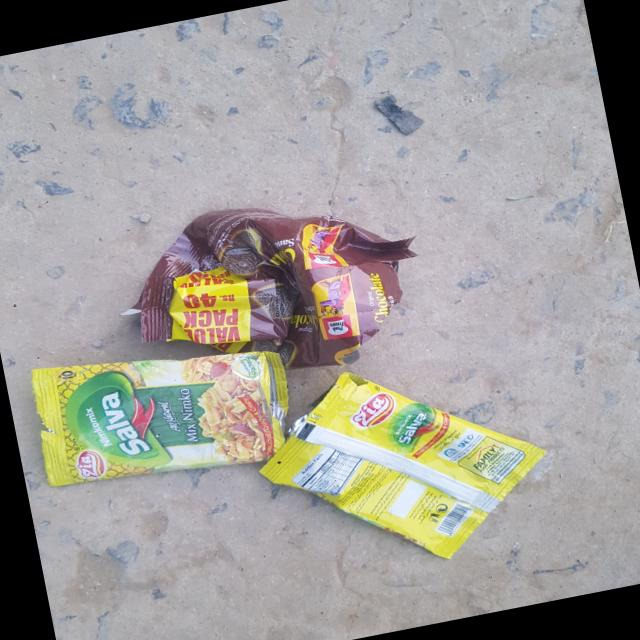electronic: (242, 336, 564, 593), (120, 172, 434, 368), (24, 321, 302, 504)
